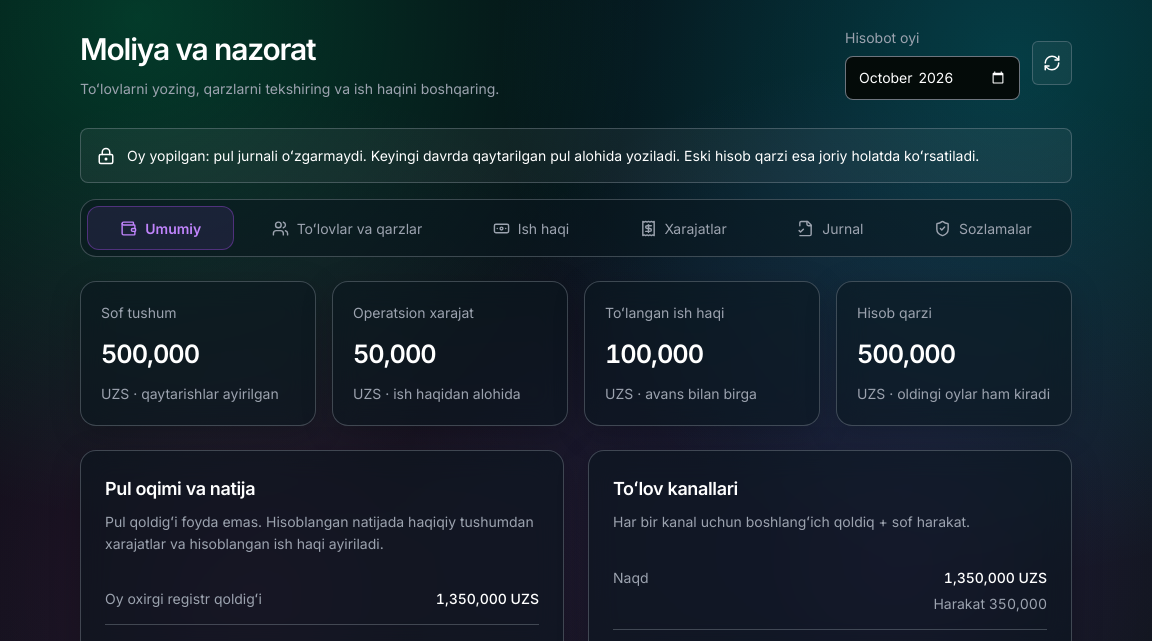
Scenario: finance admin workspace › blocks monetary form submission on a closed period
Click the button "Ish haqi".
click(531, 228)  # box [460,206,602,250]
(page scrolled)
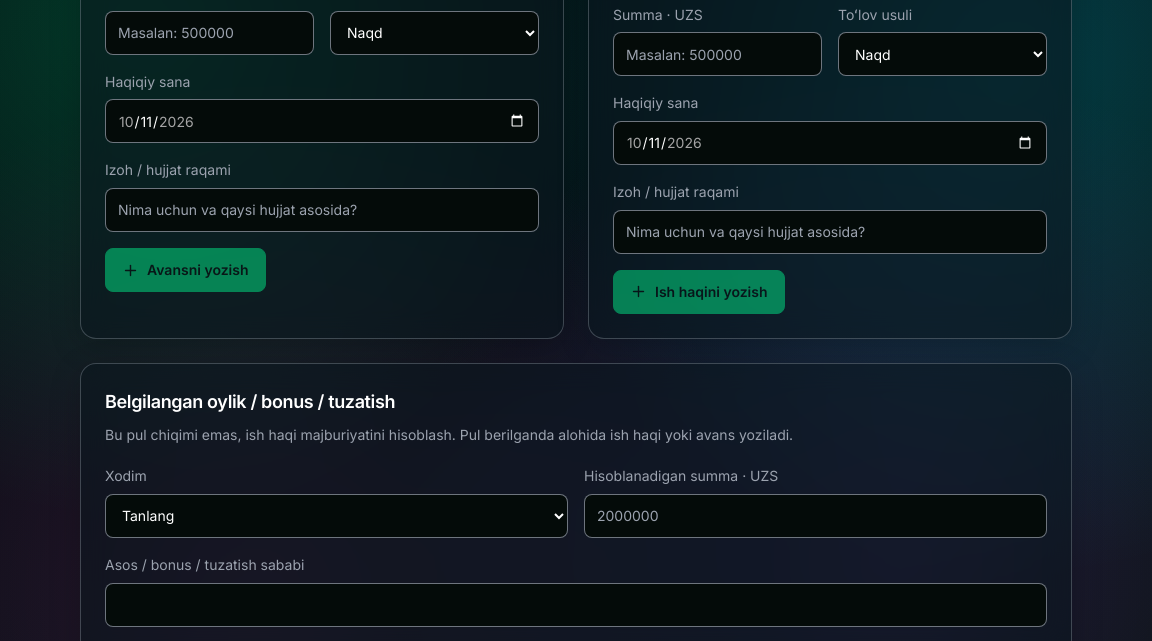
Result: the button "Avansni yozish" is disabled at [105,248,266,292]
Result: the button "Ish haqini yozish" is disabled at [613,270,784,314]
